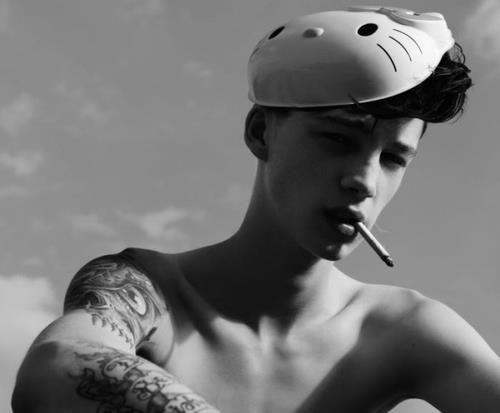cigarette: (353, 221, 395, 268)
